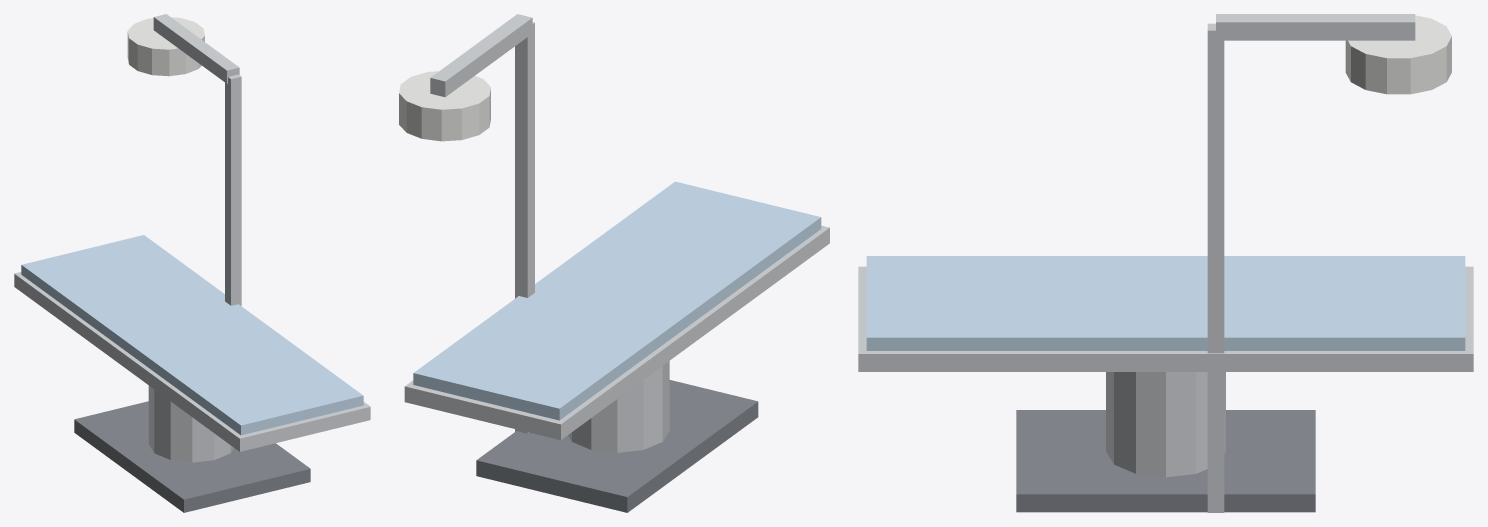
The model's file is operating_table.glb.
3 renders of one model, left to right at view 1: azimuth 30°, elevation 25°; view 2: azimuth 150°, elevation 25°; view 3: azimuth 270°, elevation 25°, orthographic. The views are drawn at different scales.
Visible parts, largest first — view 1: operating_table; view 2: operating_table; view 3: operating_table.
Boxes of the visible parts, x1=… form: operating_table: x1=14, y1=14, x2=370, y2=512; operating_table: x1=399, y1=14, x2=829, y2=512; operating_table: x1=858, y1=14, x2=1473, y2=512.
Size of the model in its own units: 0.746 by 1.63 by 1.85.
